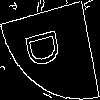D: (24, 25, 69, 70)
